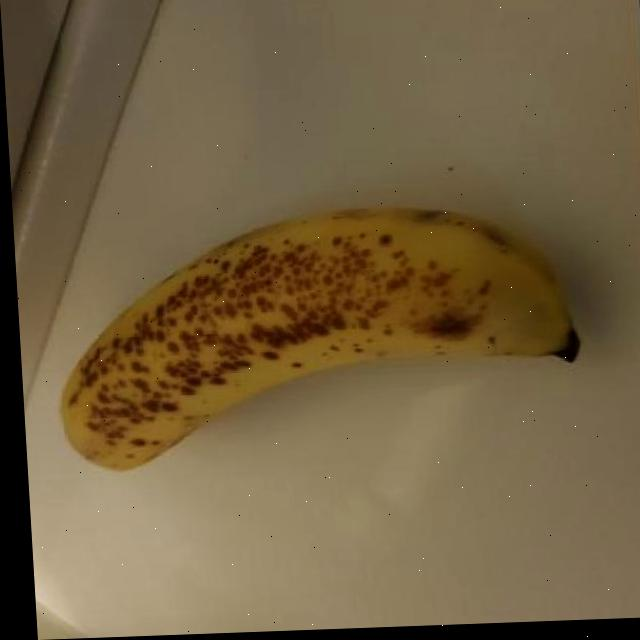banana: (41, 189, 597, 477)
